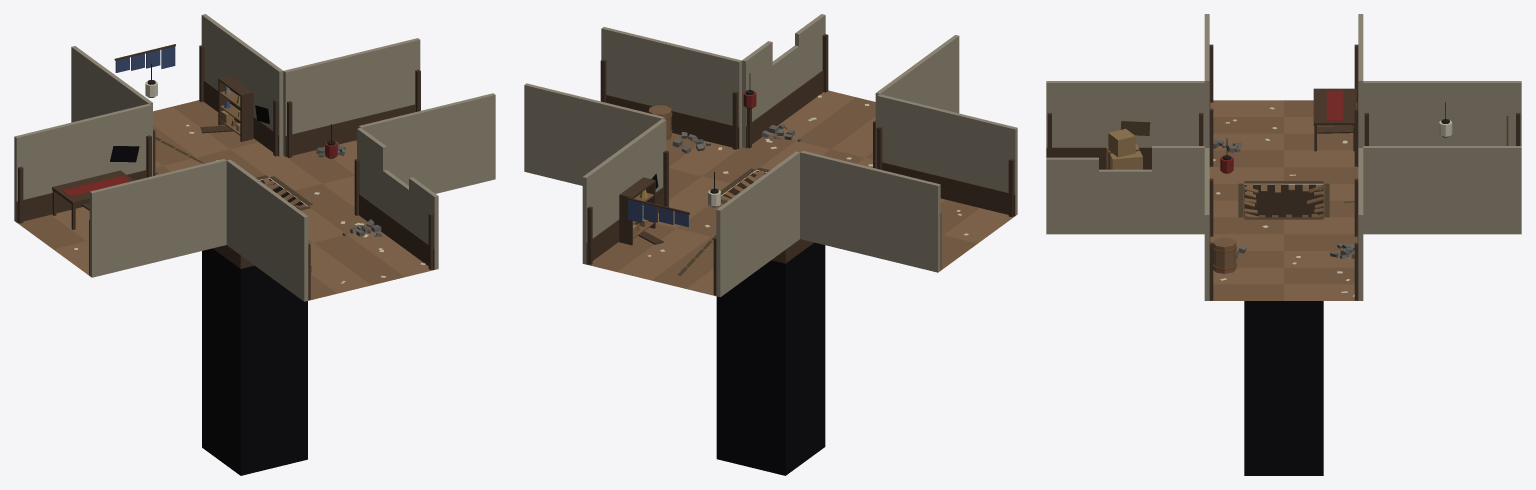
File: +_B_pit.fbx
3 views of the same model, side by side, from view 1: azimuth 30°, elevation 25°; view 2: azimuth 150°, elevation 25°; view 3: azimuth 270°, elevation 25° (orthographic). The views are drawn at different scales.
Parts seen in each view (by area): view 1: +_B_pit, +_B_pit_Deco; view 2: +_B_pit, +_B_pit_Deco; view 3: +_B_pit, +_B_pit_Deco.
Part boxes in pixels (x1,y1,x2,y2): +_B_pit: (14, 14, 495, 301); +_B_pit_Deco: (16, 44, 434, 475); +_B_pit: (524, 14, 1017, 297); +_B_pit_Deco: (586, 34, 1015, 475); +_B_pit: (1046, 14, 1521, 300); +_B_pit_Deco: (1046, 44, 1520, 475).
Bounding box in the file's own units: 2 × 2 × 1.6.
